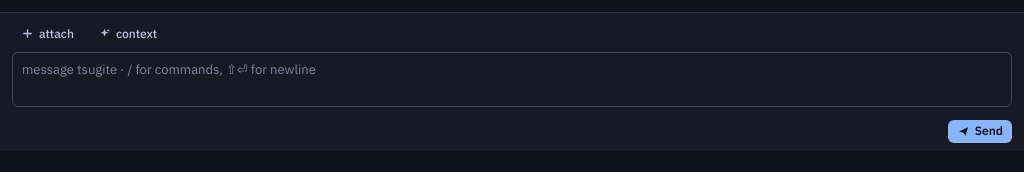
picking a workspace file from the @ popover attaches a file: chip and leaves its key
In the text box labelled "message tsugite · / for commands, ⇧⏎ for newline": (512, 80) x1=12 y1=52 x2=1012 y2=107, type "see @sse"
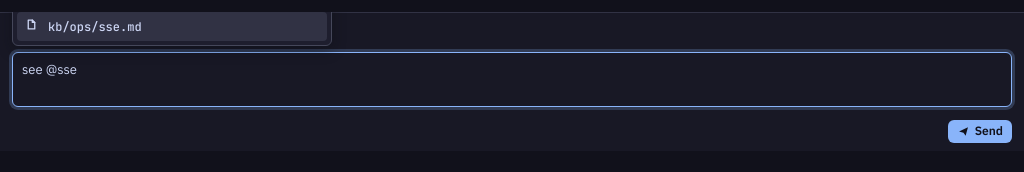
Expected: the option "kb/ops/sse.md" is shown, x1=17 y1=12 x2=327 y2=41
Press Enter
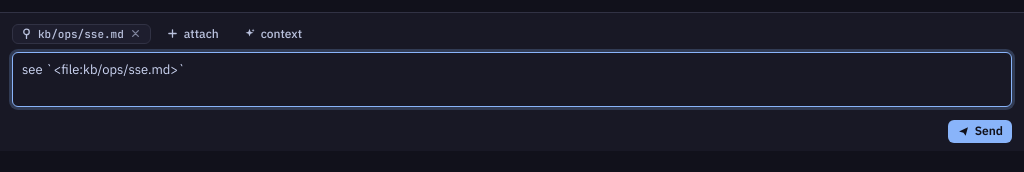
Expected: the text box named "message" holds "see `<file:kb/ops/sse.md>` ", x1=12 y1=52 x2=1012 y2=107
